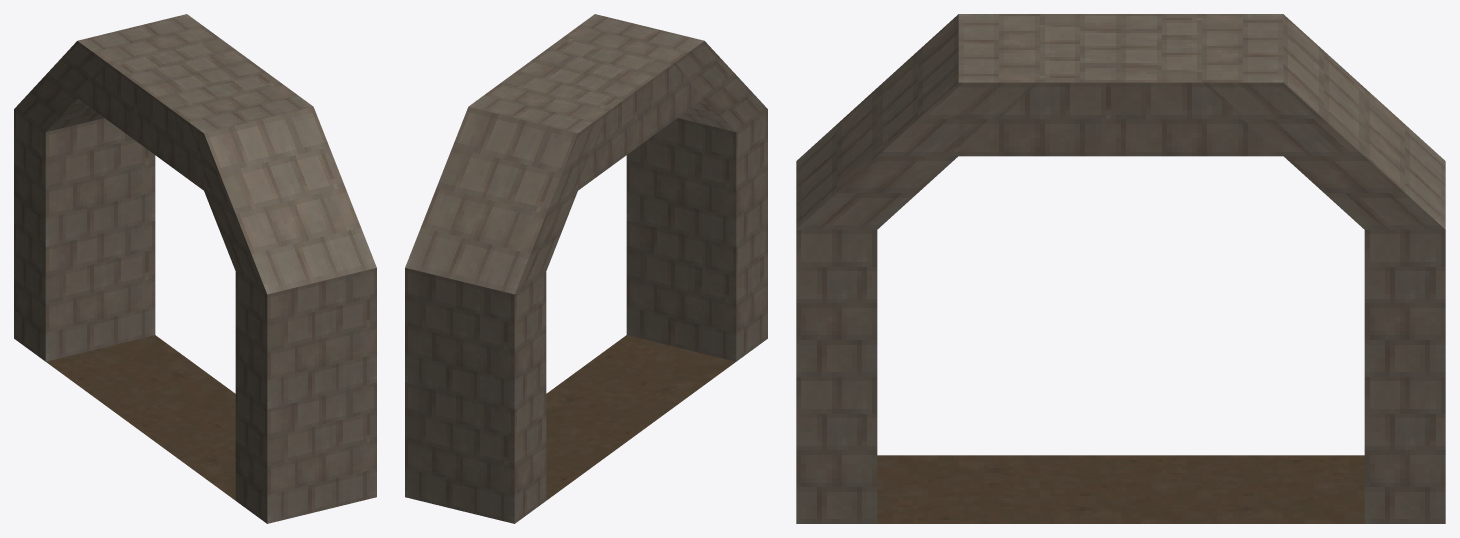
File: entrance-door.glb
The picture shows the model from 3 angles, left to right: view 1: azimuth 30°, elevation 25°; view 2: azimuth 150°, elevation 25°; view 3: azimuth 270°, elevation 25°; orthographic projection. The views are drawn at different scales.
Parts seen in each view (by area): view 1: Plane; view 2: Plane; view 3: Plane.
Part boxes in pixels (bbox=[...]): Plane: bbox=[14, 14, 376, 523]; Plane: bbox=[405, 14, 767, 523]; Plane: bbox=[796, 14, 1445, 523].
Bounding box in the file's own units: 1 × 3 × 4.
1 material, 1 textured.
